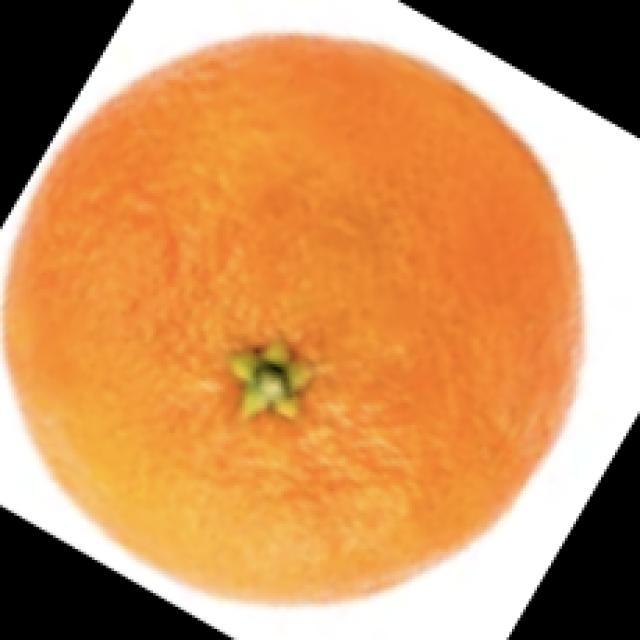matang: (5, 36, 580, 598)
